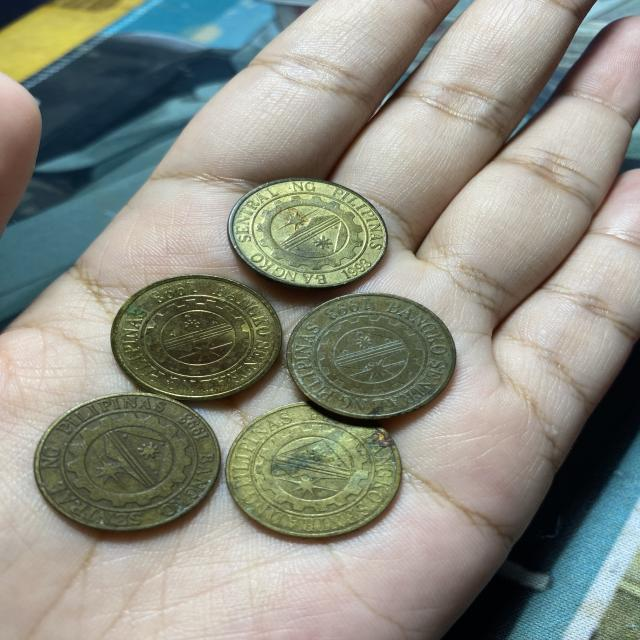25Cent_Old_Back: (28, 393, 228, 529), (223, 402, 400, 554), (113, 274, 284, 406), (289, 294, 463, 420), (233, 176, 389, 291)
